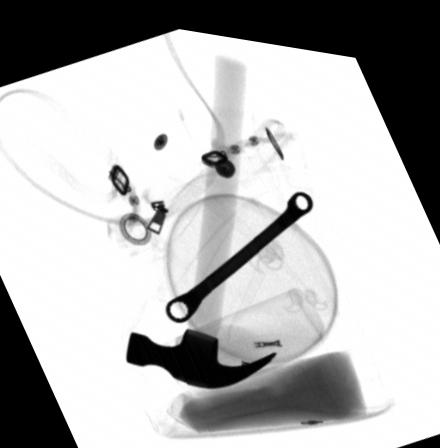Hammer: (124, 47, 277, 382)
Wrench: (163, 181, 312, 317)
